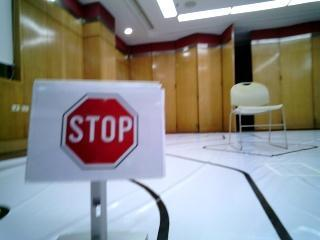stop: (51, 88, 151, 170)
